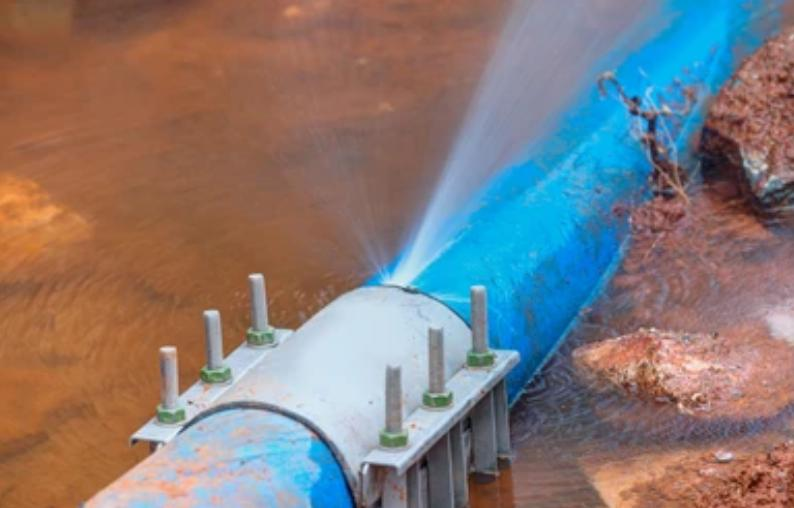pipe burst: (345, 0, 691, 291)
water accumulation: (0, 0, 794, 508)
